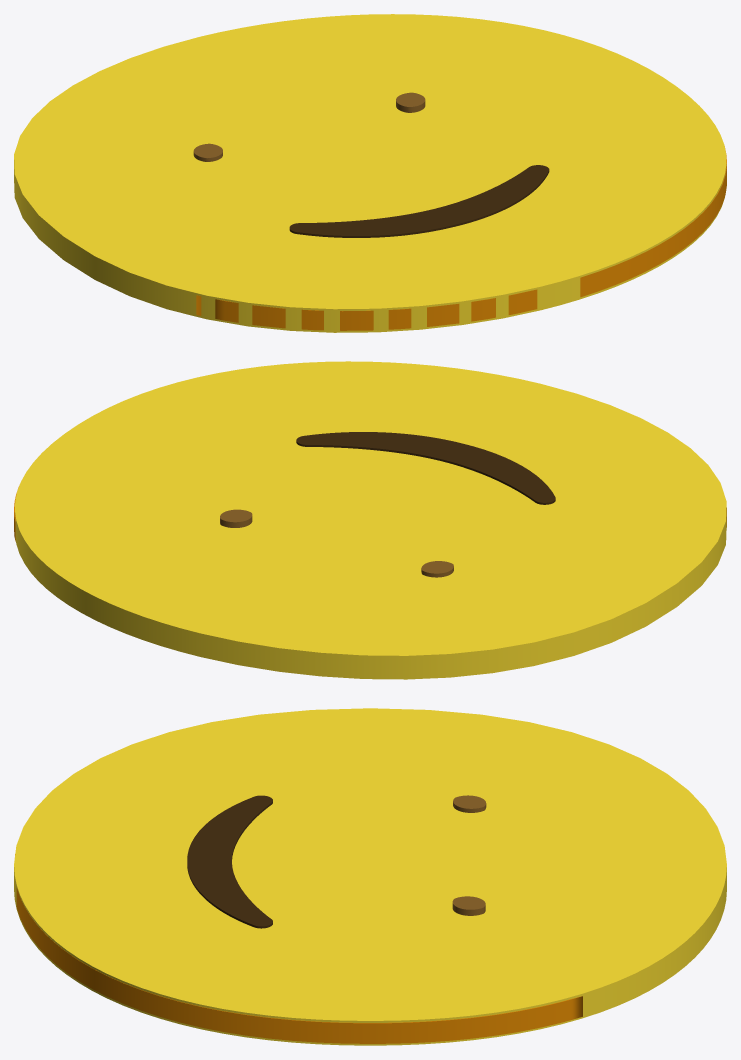
The model's file is emoji_u1f972.glb.
3 renders of one model, top to bottom at view 1: azimuth 30°, elevation 25°; view 2: azimuth 150°, elevation 25°; view 3: azimuth 270°, elevation 25°, orthographic. The views are drawn at different scales.
Visible parts, largest first — view 1: emoji_u1f972; view 2: emoji_u1f972; view 3: emoji_u1f972.
Boxes of the visible parts, x1,y1,x2,y2 form: emoji_u1f972: (14,14,726,332); emoji_u1f972: (14,361,726,679); emoji_u1f972: (14,708,726,1045).
Bounding box in the file's own units: 0.0326 × 0.0018 × 0.0314.
